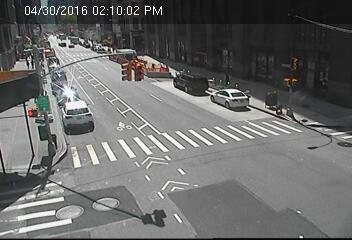neg: (180, 169, 215, 216), (159, 12, 192, 57), (299, 179, 332, 224), (185, 97, 217, 140), (240, 129, 271, 171), (226, 14, 257, 56), (244, 190, 266, 218), (109, 137, 130, 166), (281, 124, 302, 152), (116, 4, 133, 27), (3, 2, 20, 25), (103, 76, 119, 98), (23, 9, 38, 29), (294, 38, 309, 58), (312, 17, 325, 34)
pos: (222, 70, 234, 87), (29, 57, 39, 71), (24, 60, 30, 68)
